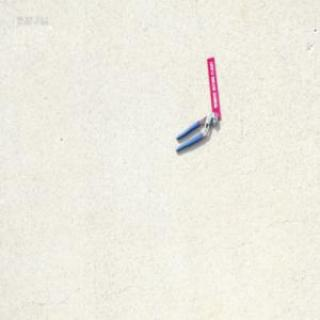LuggageTagtrack_idkeyframe: (207, 53, 220, 118)
Pliertrack_idkeyframe: (175, 111, 218, 151)
